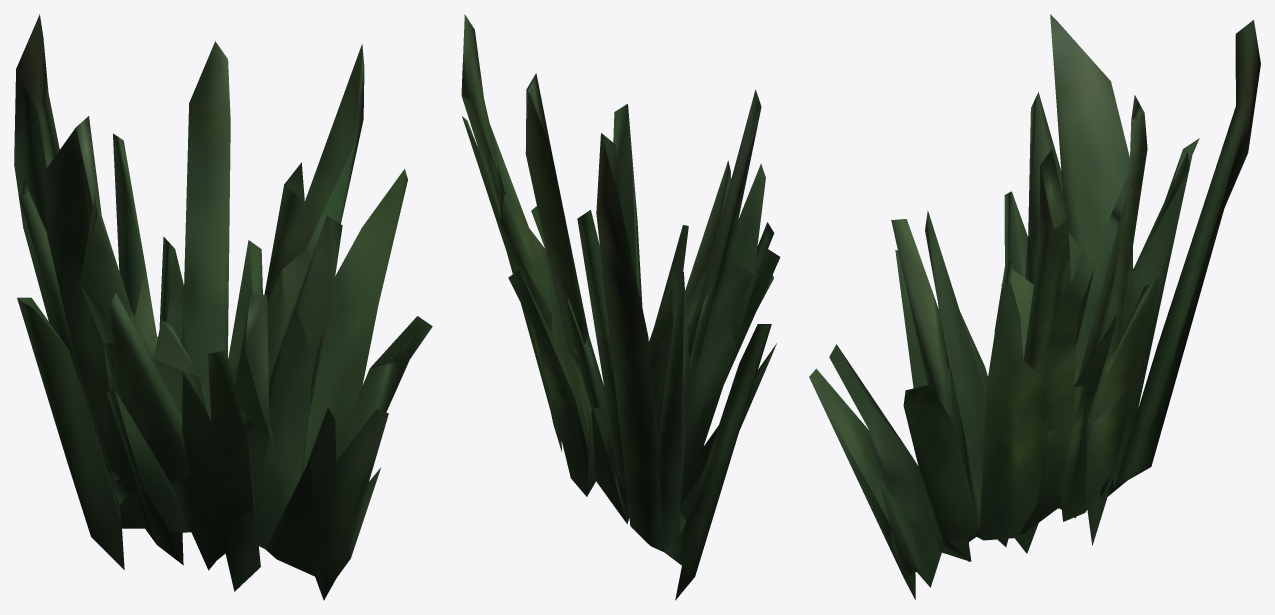
Rendered from terrain4_plant_1.glb.
3 renders of one model, left to right at view 1: azimuth 30°, elevation 25°; view 2: azimuth 150°, elevation 25°; view 3: azimuth 270°, elevation 25°, orthographic. The views are drawn at different scales.
Visible parts, largest first — view 1: plant_1; view 2: plant_1; view 3: plant_1.
Part boxes in pixels (x1,y1,x2,y2): plant_1: [14, 14, 432, 600]; plant_1: [461, 14, 780, 600]; plant_1: [809, 14, 1260, 599].
Bounding box in the file's own units: 8.82 × 12.47 × 9.77.
1 material, 1 textured.
